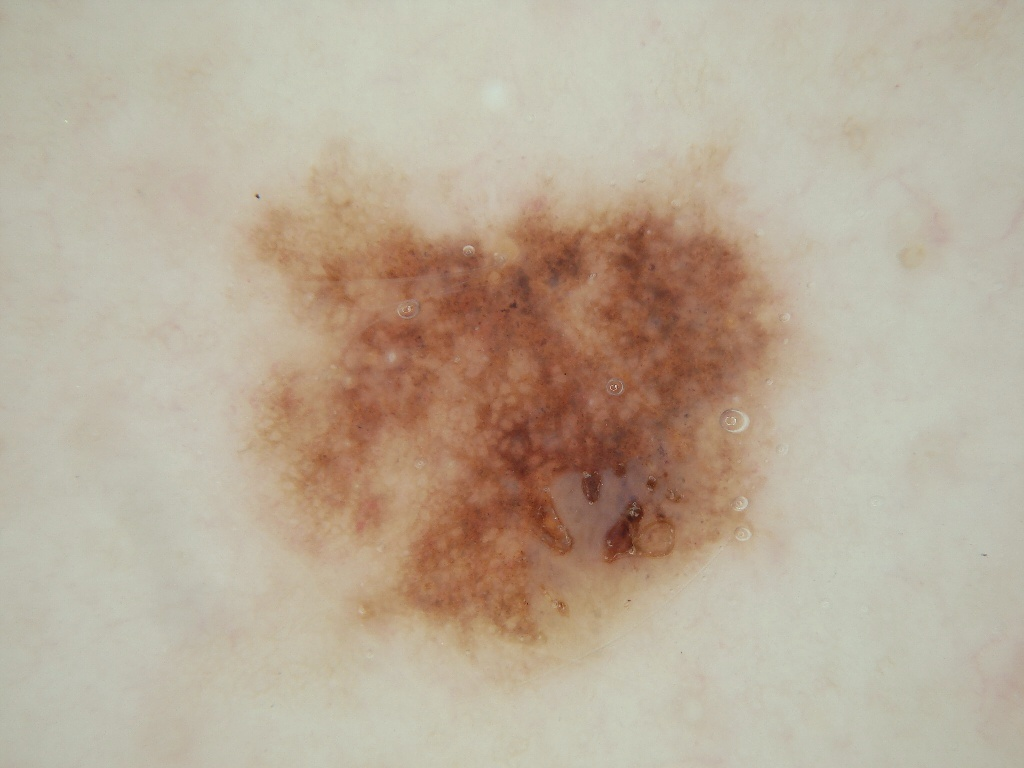Detected Lesion: (244, 142, 794, 679)
